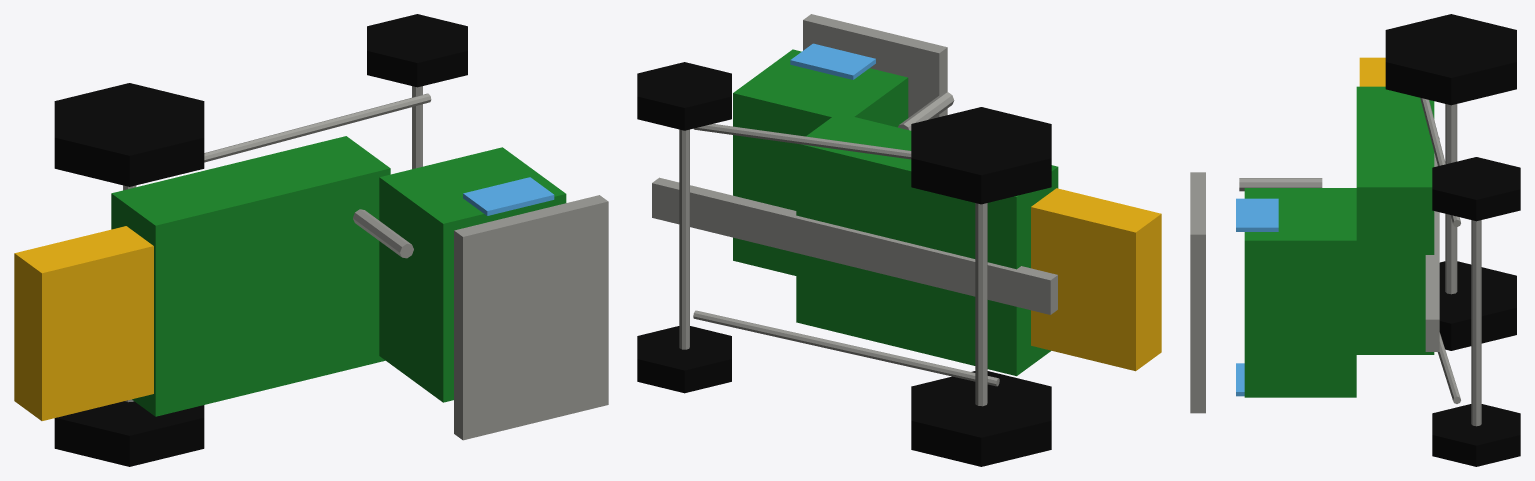
The model's file is tractor.obj.
3 renders of one model, left to right at view 1: azimuth 30°, elevation 25°; view 2: azimuth 150°, elevation 25°; view 3: azimuth 270°, elevation 25°, orthographic. The views are drawn at different scales.
Parts seen in each view (by area): view 1: XYT_generated; view 2: XYT_generated; view 3: XYT_generated.
Part boxes in pixels (box(x1,y1,x2,y2)): XYT_generated: box(14, 14, 608, 466); XYT_generated: box(637, 14, 1161, 466); XYT_generated: box(1190, 14, 1520, 466).
Size of the model in its own units: 4.22 by 2.52 by 2.76.
